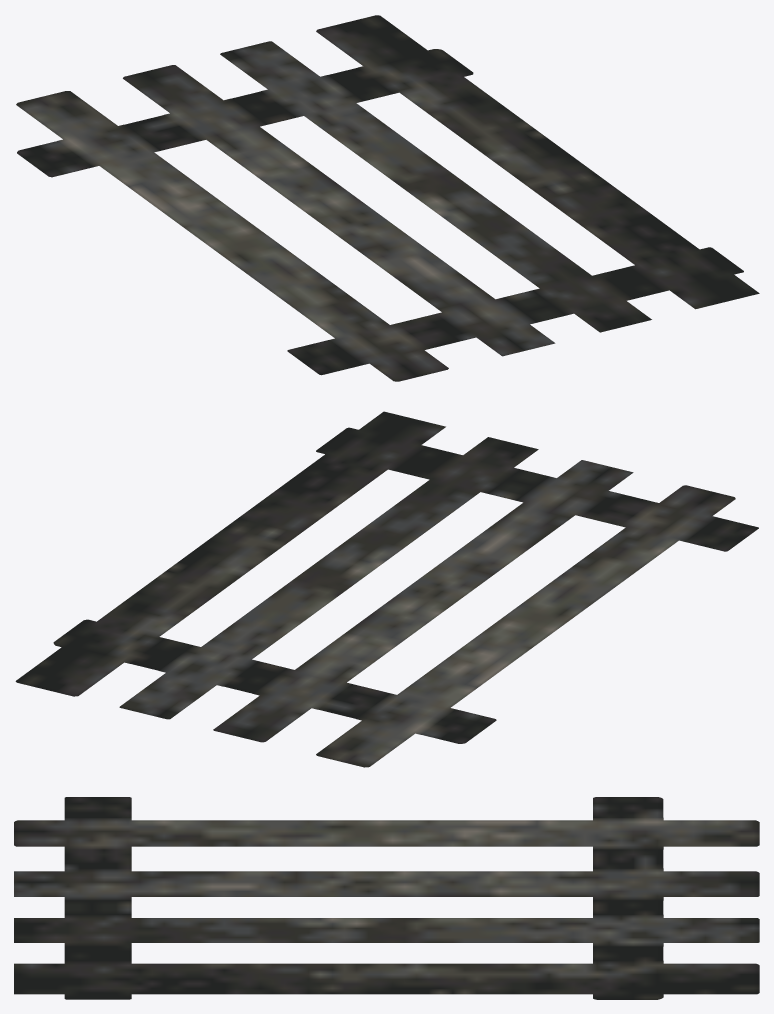
Rendered from SM_EC_Fence_Card_05.001.fbx.
The picture shows the model from 3 angles, top to bottom: view 1: azimuth 30°, elevation 25°; view 2: azimuth 150°, elevation 25°; view 3: azimuth 270°, elevation 25°; orthographic projection. The views are drawn at different scales.
Parts seen in each view (by area): view 1: SM_EC_Fence_Card_05.001; view 2: SM_EC_Fence_Card_05.001; view 3: SM_EC_Fence_Card_05.001.
Boxes of the visible parts, left/top/right/bottom form: SM_EC_Fence_Card_05.001: left=16, top=15, right=759, bottom=381; SM_EC_Fence_Card_05.001: left=15, top=411, right=758, bottom=767; SM_EC_Fence_Card_05.001: left=14, top=797, right=759, bottom=999.
Bounding box in the file's own units: 0.6859 × 1.07 × 0.
